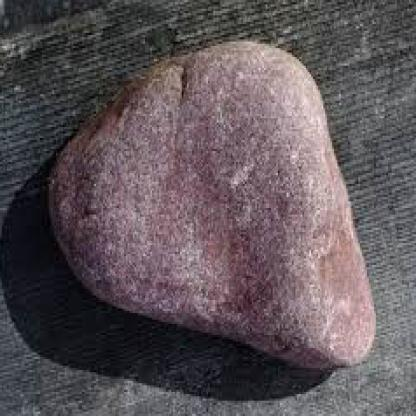Metamorphic_Quartize: (40, 26, 383, 381)
